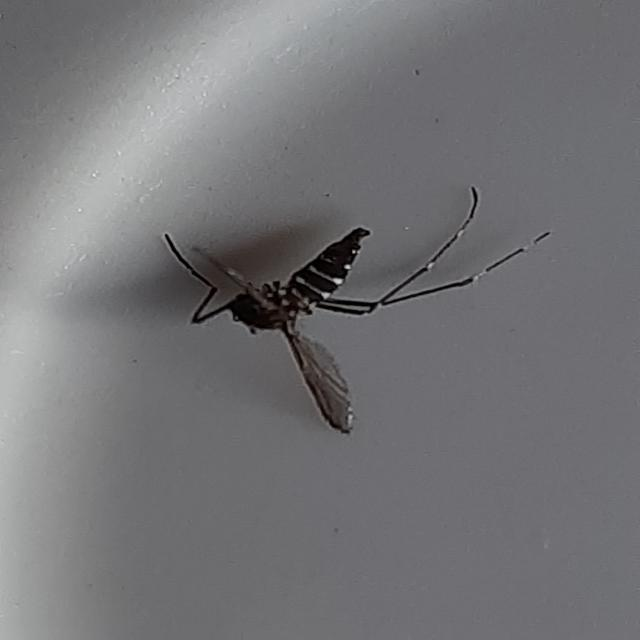albopictus: (138, 176, 558, 445)
